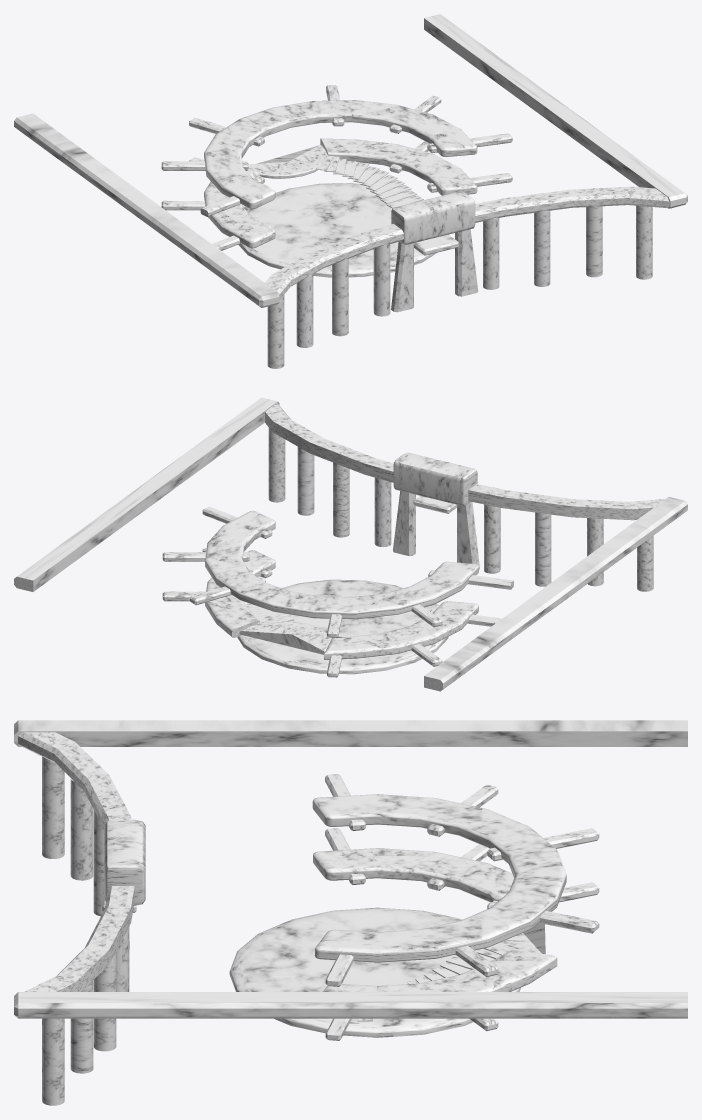
The model's file is MarmolBlanco.obj.
3 renders of one model, top to bottom at view 1: azimuth 30°, elevation 25°; view 2: azimuth 150°, elevation 25°; view 3: azimuth 270°, elevation 25°, orthographic. The views are drawn at different scales.
Parts seen in each view (by area): view 1: Marmol1; view 2: Marmol1; view 3: Marmol1.
Part boxes in pixels (x1,y1,x2,y2): Marmol1: (14, 14, 687, 368); Marmol1: (14, 397, 687, 691); Marmol1: (14, 720, 687, 1105).
Size of the model in its own units: 29720 by 6616 by 29559.
